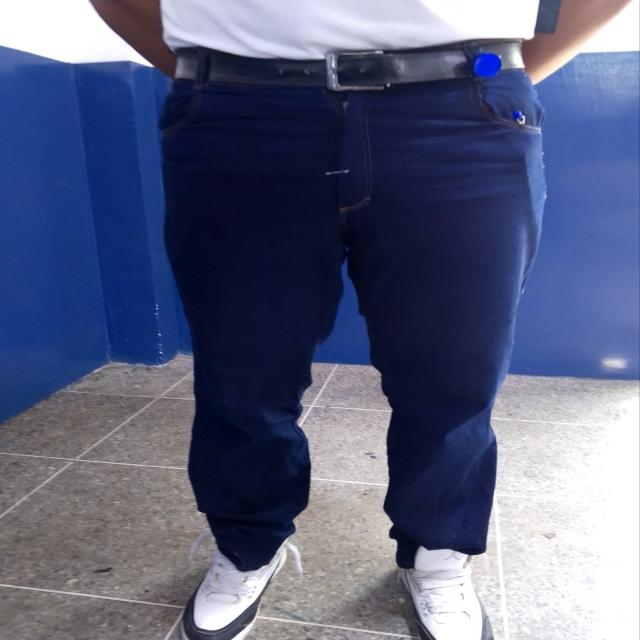pantalon_oscuro: (156, 66, 549, 576)
